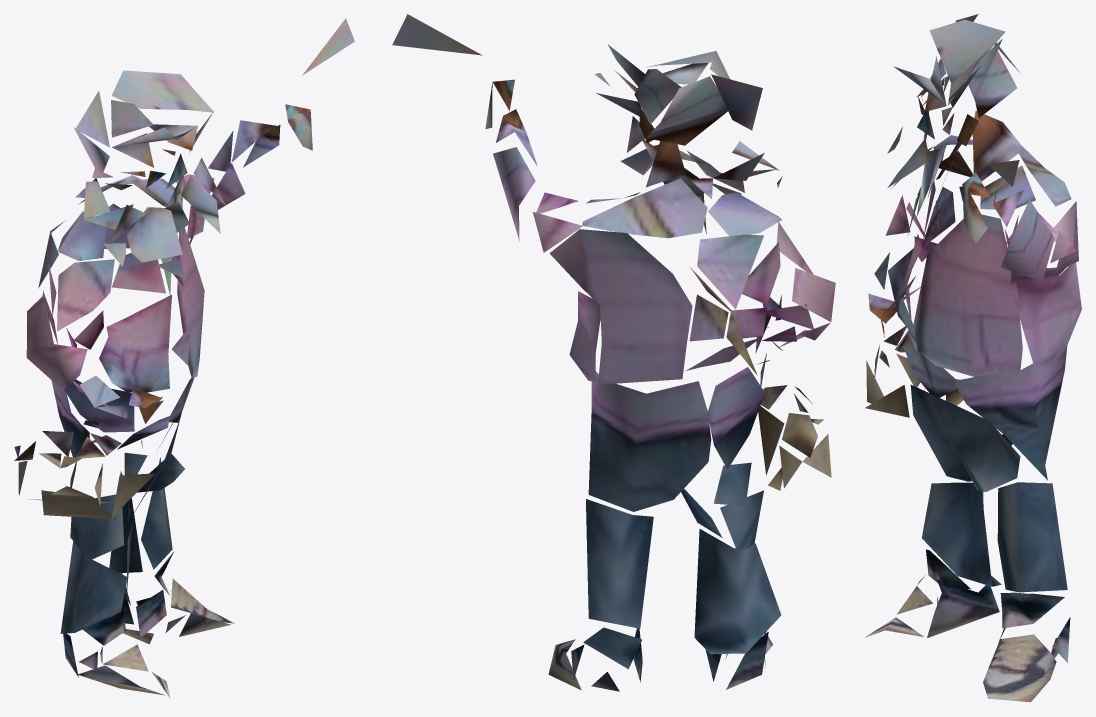
The model's file is crowd_writer_lite.glb.
3 views of the same model, side by side, from view 1: azimuth 30°, elevation 25°; view 2: azimuth 150°, elevation 25°; view 3: azimuth 270°, elevation 25° (orthographic). The views are drawn at different scales.
Visible parts, largest first — view 1: tripo_node_a171b73f-355f-4e3c-badd-fdc2f2bb58a7; view 2: tripo_node_a171b73f-355f-4e3c-badd-fdc2f2bb58a7; view 3: tripo_node_a171b73f-355f-4e3c-badd-fdc2f2bb58a7.
Part boxes in pixels (left/top/right/bottom): tripo_node_a171b73f-355f-4e3c-badd-fdc2f2bb58a7: left=14, top=18, right=354, bottom=698; tripo_node_a171b73f-355f-4e3c-badd-fdc2f2bb58a7: left=392, top=14, right=835, bottom=691; tripo_node_a171b73f-355f-4e3c-badd-fdc2f2bb58a7: left=865, top=14, right=1081, bottom=702.
Bounding box in the file's own units: 1.24 × 1.85 × 0.5774.
Materials: 1 (1 with a texture image).
